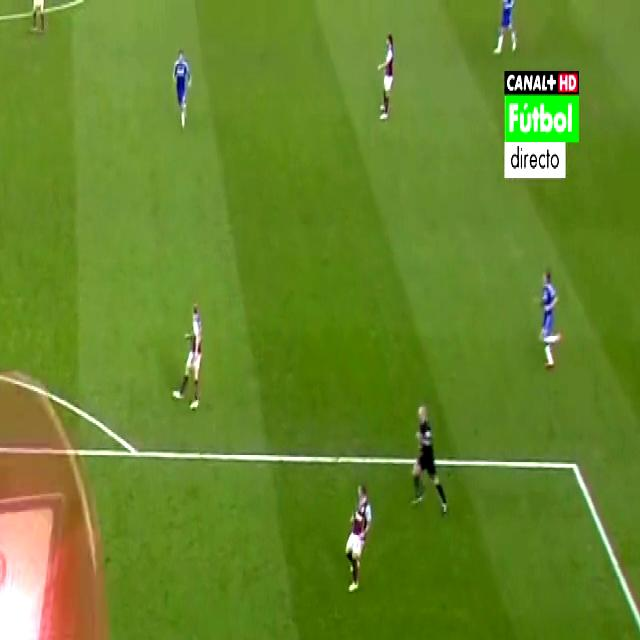referee: (411, 388, 459, 525)
soccer-player: (334, 477, 378, 608), (172, 294, 215, 426), (528, 257, 562, 378), (376, 23, 404, 127), (171, 41, 197, 137), (491, 0, 521, 61)
